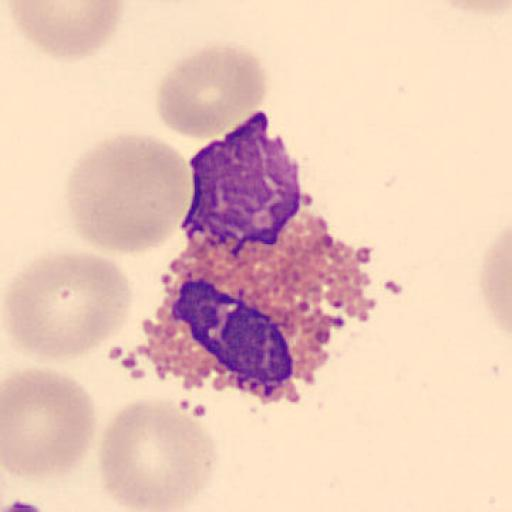RBC: (64, 130, 192, 256), (4, 246, 134, 363), (98, 397, 221, 511), (156, 40, 271, 141), (2, 366, 99, 480), (5, 0, 126, 63), (478, 225, 512, 338), (429, 0, 512, 19)
WBC: (142, 129, 380, 404), (178, 108, 375, 350), (136, 218, 376, 403)
